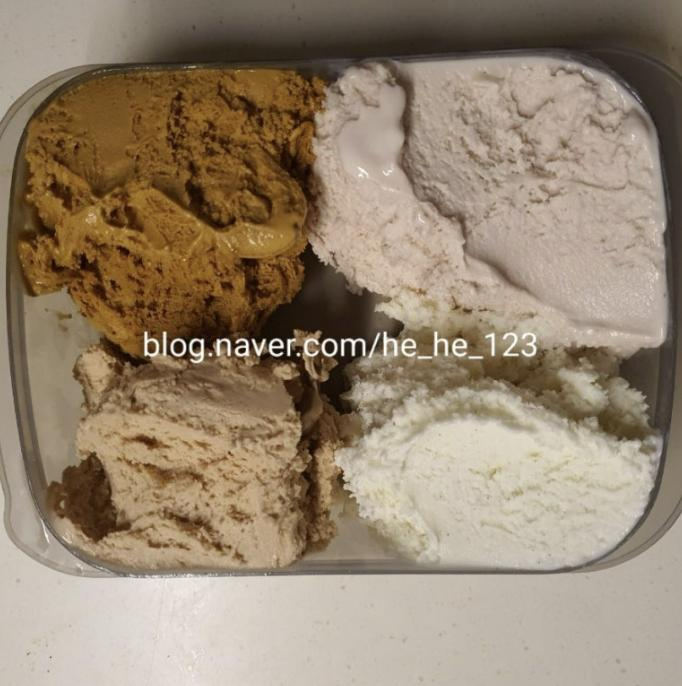Lunch Box: (0, 43, 681, 576)
